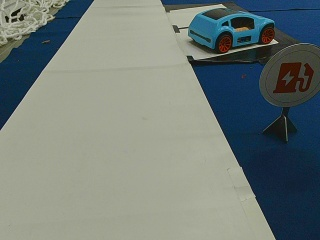battery: (260, 42, 318, 108)
car: (188, 9, 275, 52)
